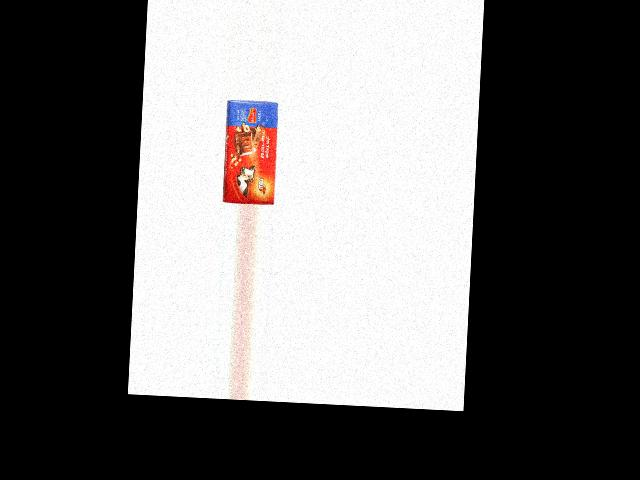chocolate: (217, 100, 278, 205)
